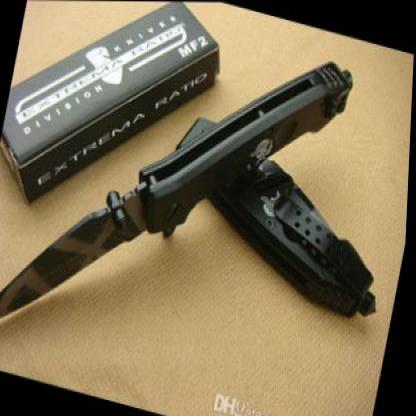knife: (0, 120, 197, 383)
